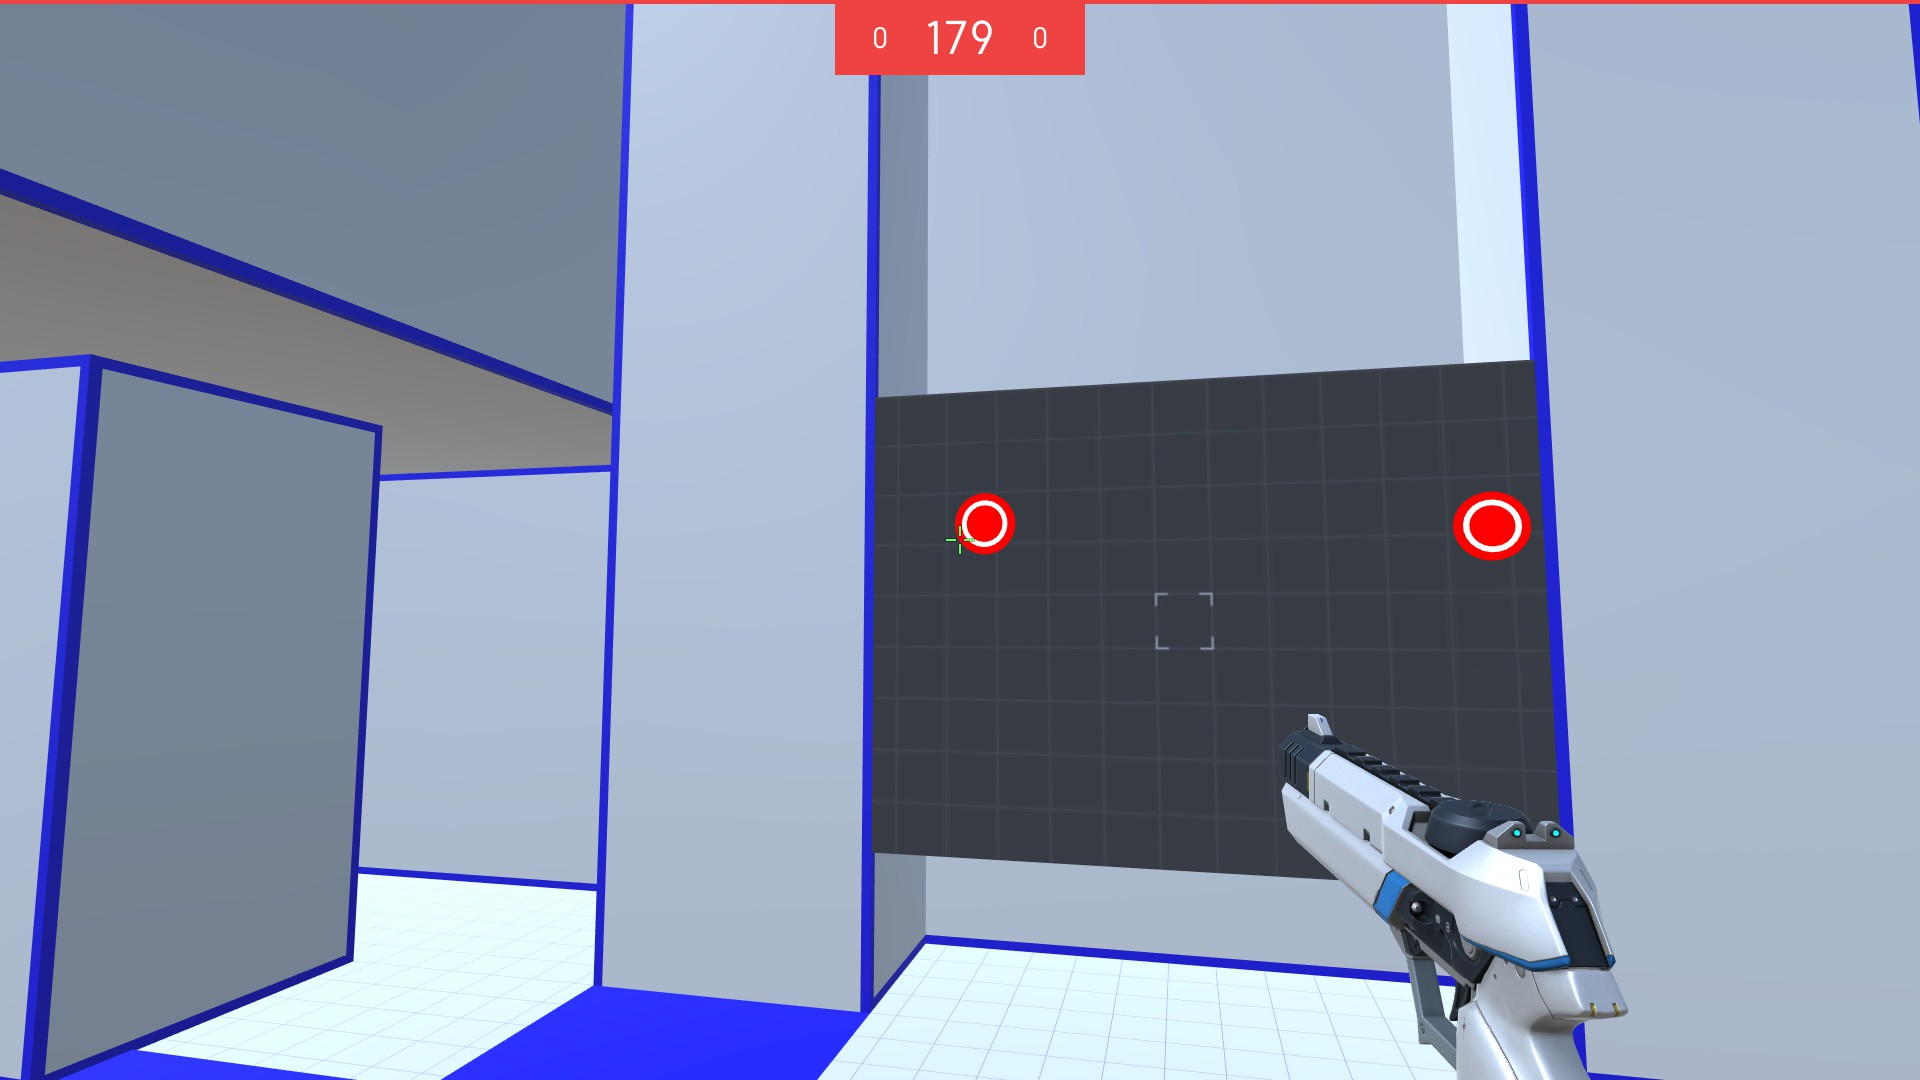target: (1452, 487, 1531, 564), (953, 491, 1015, 556)
